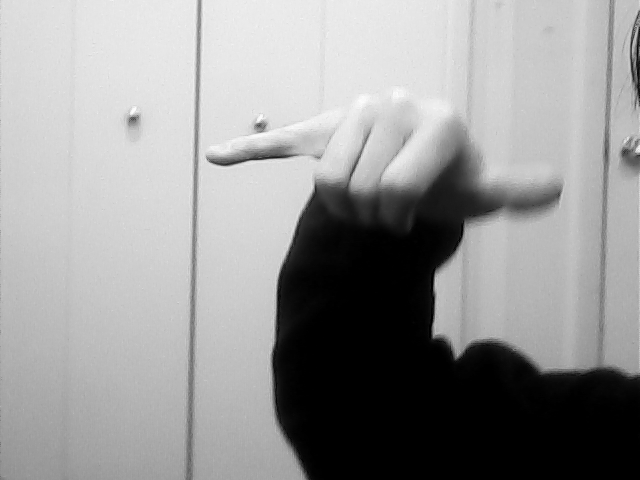aloha: (202, 81, 571, 237)
